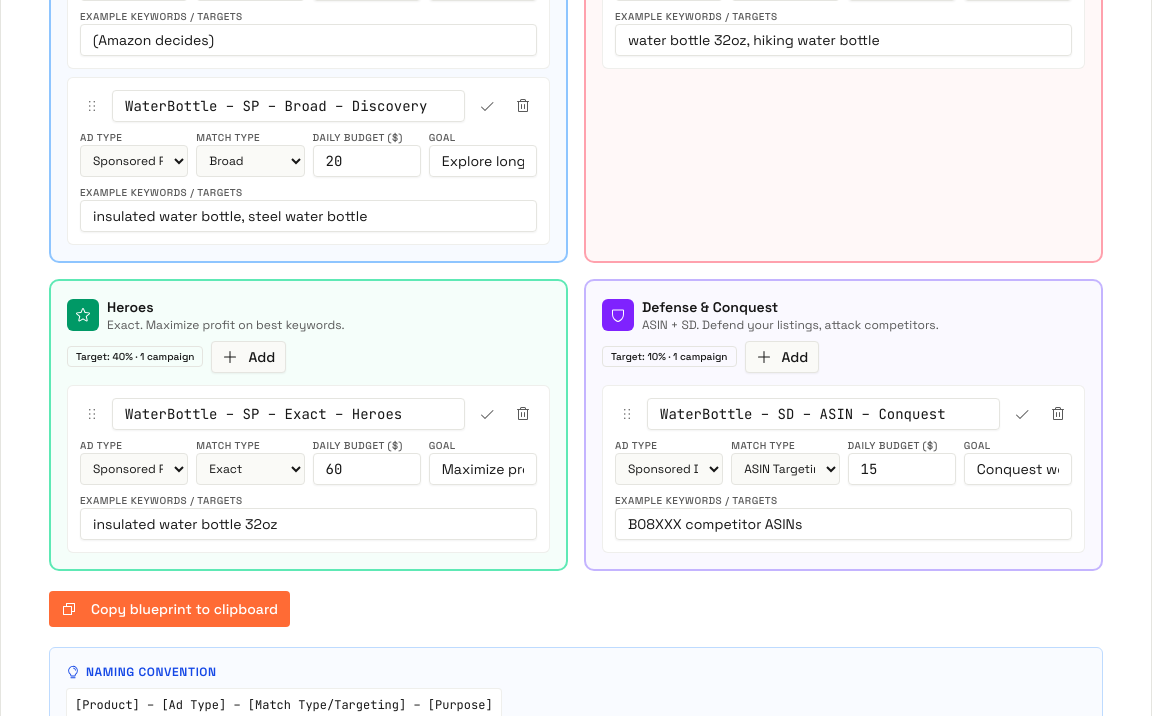
Test: CampaignBuilder › adds a campaign to the layer whose Add button was clicked
The width and height of the screenshot is (1152, 716).
(page scrolled)
Expected: the text "Target: 10% · 1 campaign" is shown, top-left (602, 346), bottom-right (736, 367)
Step 1. Click the 2nd button "Add" → [782, 356], box top-left (744, 340), bottom-right (819, 372)
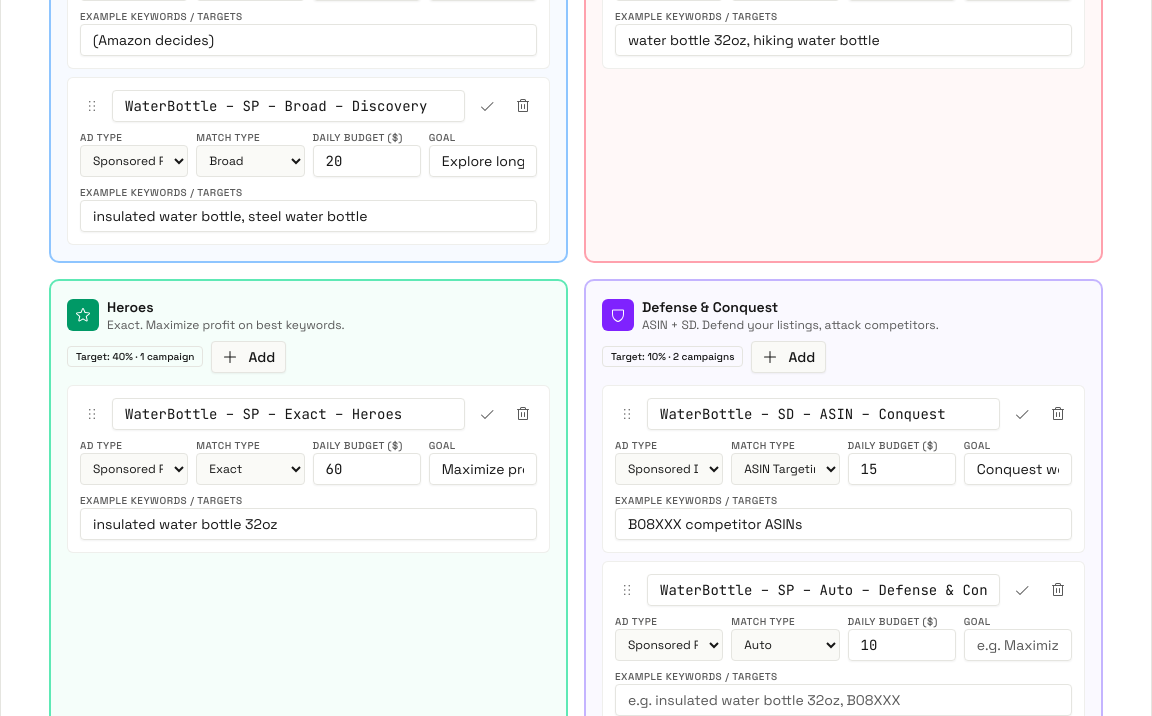
Expected: the text "Target: 10% · 2 campaigns" is shown, top-left (602, 346), bottom-right (743, 367)
